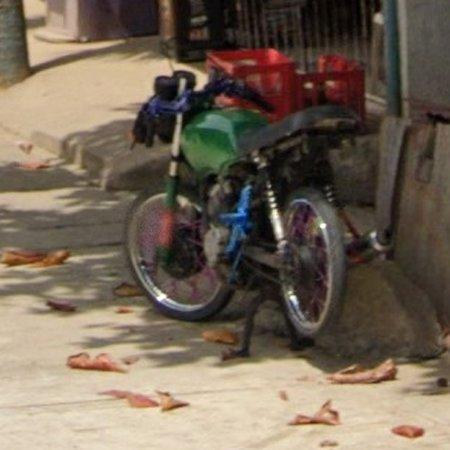motorcycles: (126, 71, 391, 341)
